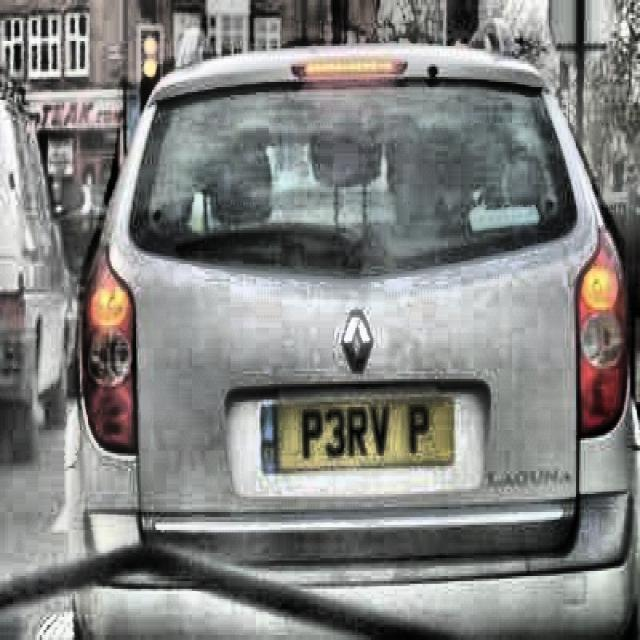license_plate: (267, 401, 450, 466)
